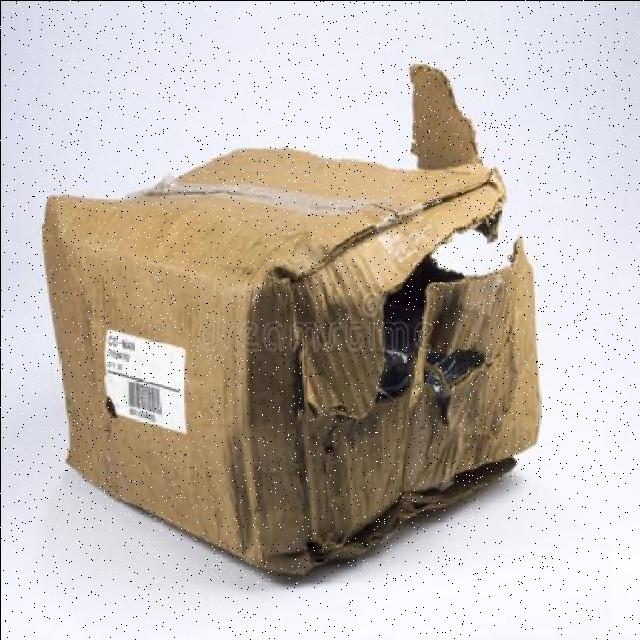defect: (43, 144, 549, 576)
